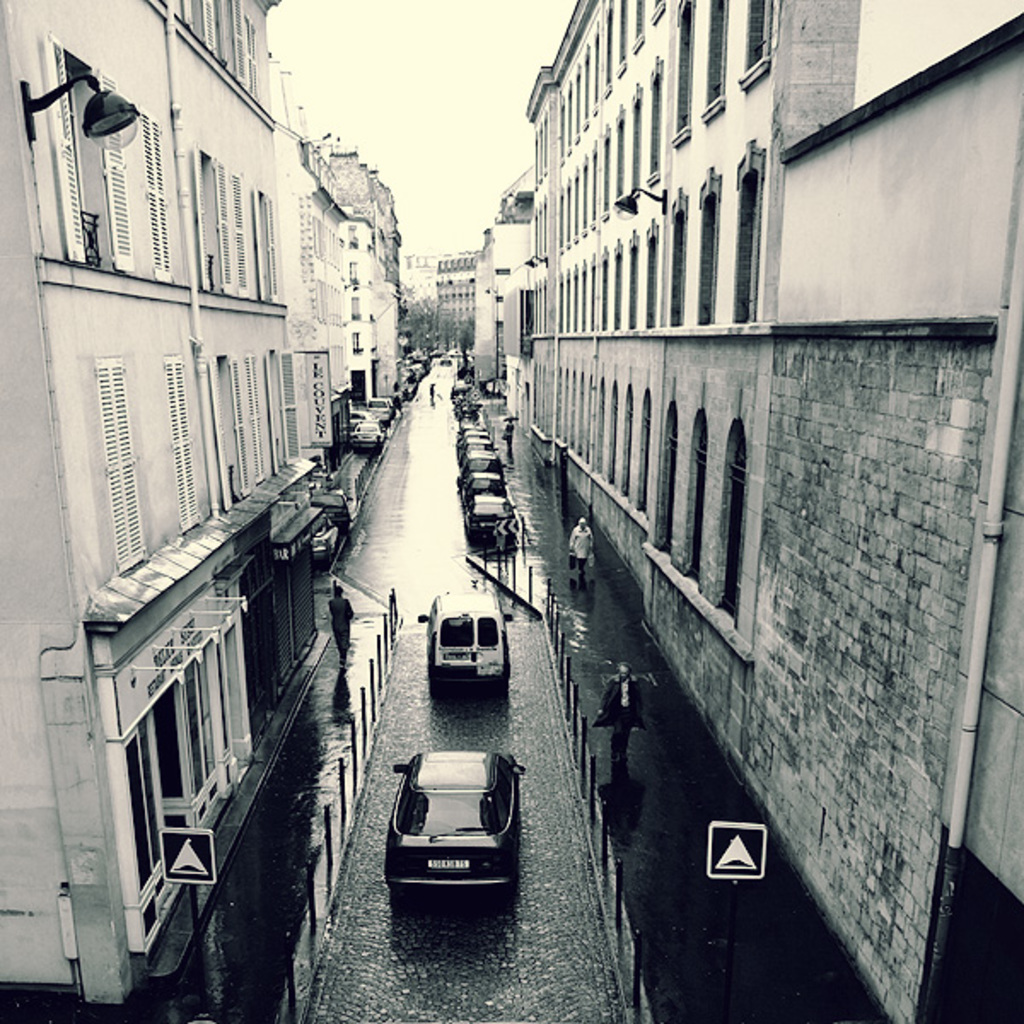Car: (353, 750, 532, 916), (450, 380, 518, 551), (413, 587, 515, 692), (349, 395, 390, 448)
